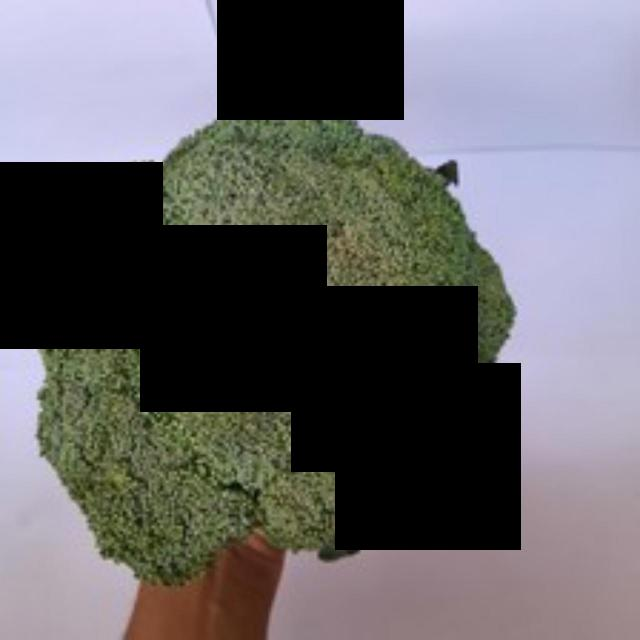broccoli: (33, 85, 514, 592)
